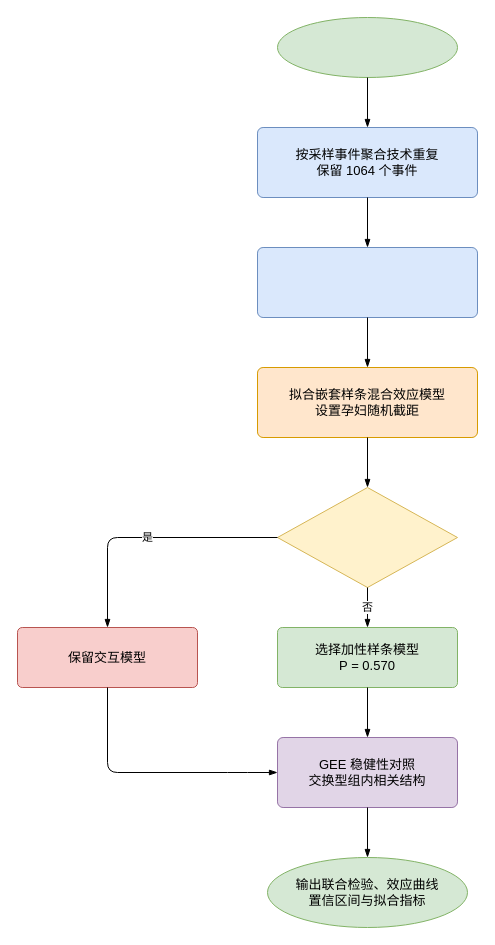
Image size: 495x945. Some labels were removed from this diagram. The box of each missing label's shape, as (x1, y1, x2, y2) in pixels:
Logit 变换与连续变量标准化 构造辅助生殖指示变量: (256, 246, 478, 318)
孕周与 BMI 交互显著？: (276, 486, 458, 588)
男胎检测记录 1082 条: (276, 16, 458, 78)
